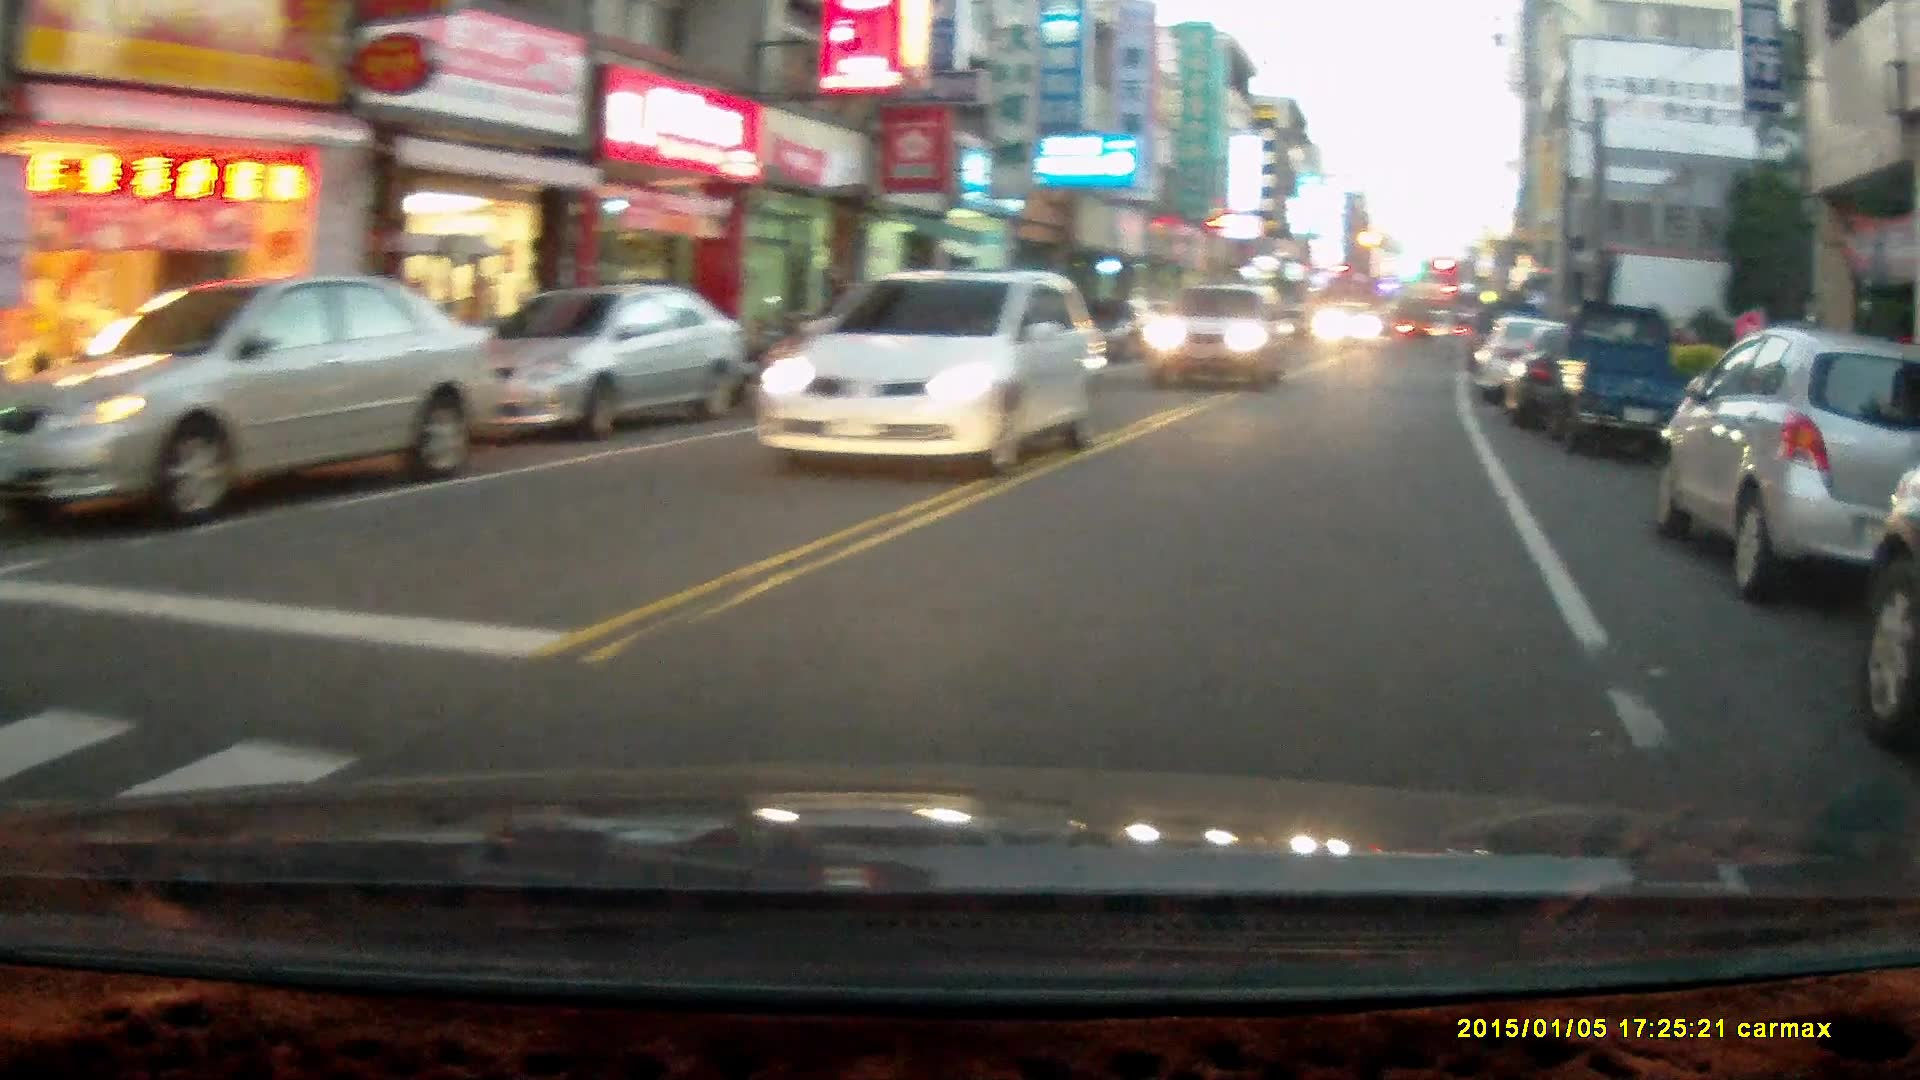vehicle: (11, 281, 520, 527), (1643, 328, 1920, 608), (750, 277, 1106, 487), (443, 284, 745, 443), (1531, 303, 1706, 462), (1146, 285, 1302, 392), (1468, 313, 1609, 411), (1313, 305, 1389, 353)
